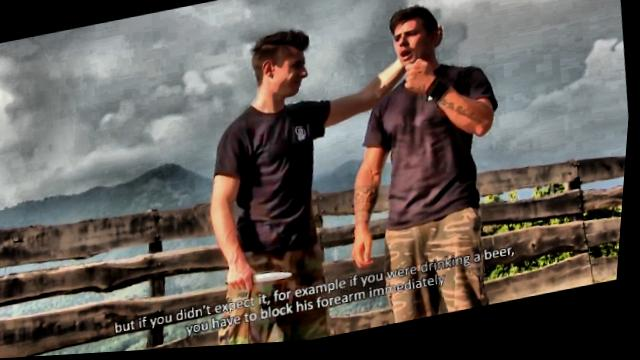knife: (224, 260, 306, 302)
